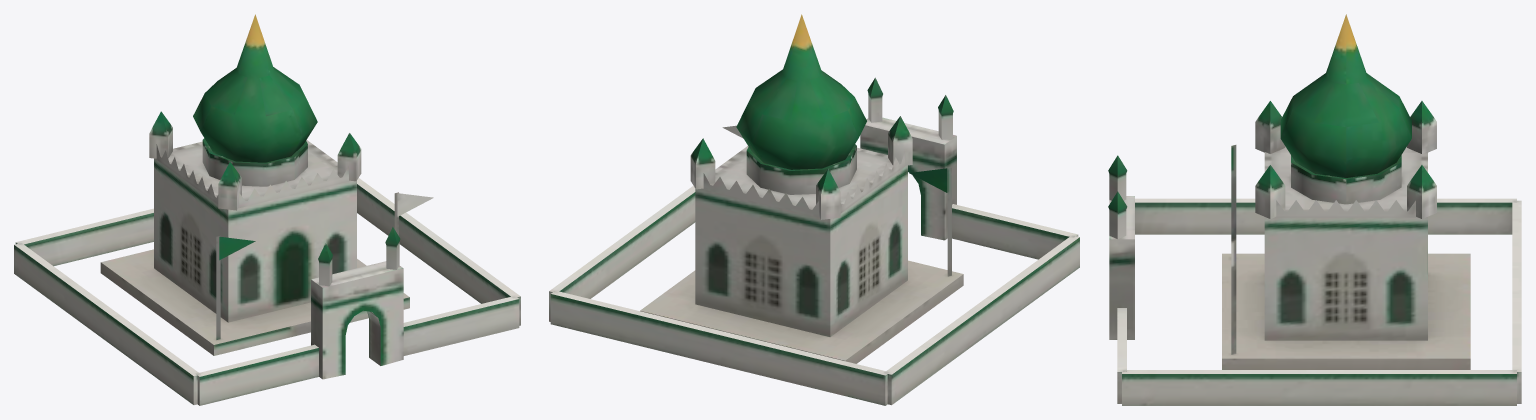
The model's file is kit_dargah.glb.
3 renders of one model, left to right at view 1: azimuth 30°, elevation 25°; view 2: azimuth 150°, elevation 25°; view 3: azimuth 270°, elevation 25°, orthographic. The views are drawn at different scales.
Parts seen in each view (by area): view 1: kit_dargah_body; view 2: kit_dargah_body; view 3: kit_dargah_body.
Part boxes in pixels (bbox=[...]): kit_dargah_body: bbox=[14, 14, 520, 405]; kit_dargah_body: bbox=[549, 14, 1079, 405]; kit_dargah_body: bbox=[1108, 14, 1521, 405].
Bounding box in the file's own units: 38.9 × 31.55 × 38.75.
Materials: 1 (1 with a texture image).
